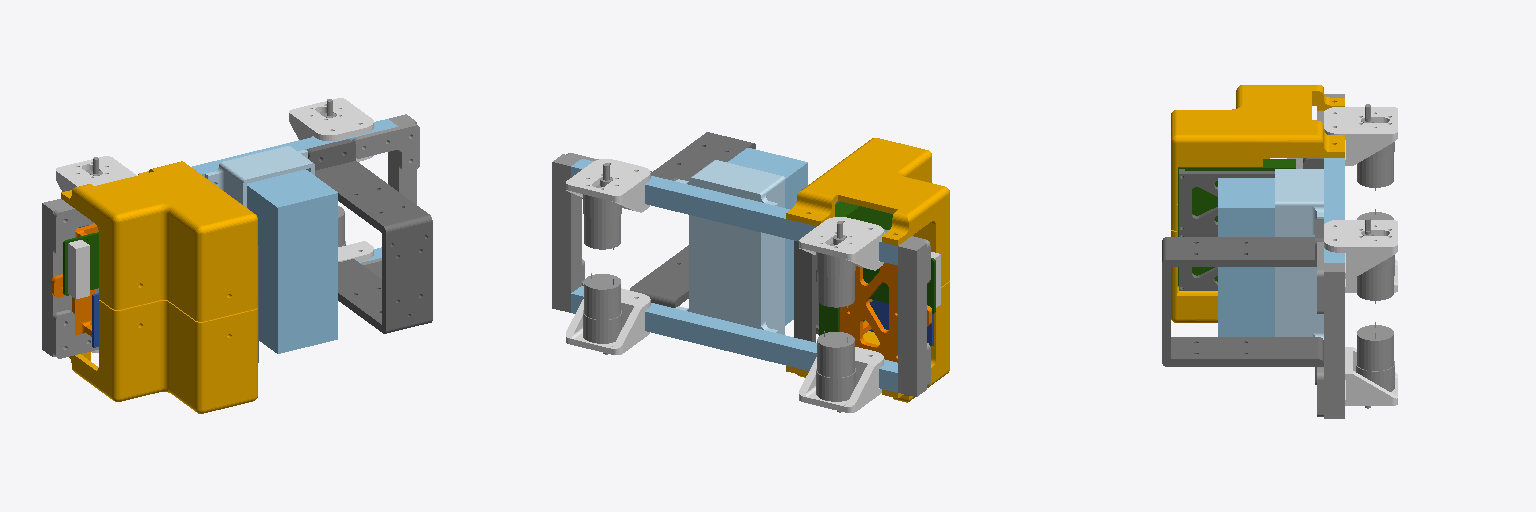
File: mecanum_bot_chassis.obj
3 views of the same model, side by side, from view 1: azimuth 30°, elevation 25°; view 2: azimuth 150°, elevation 25°; view 3: azimuth 270°, elevation 25° (orthographic).
Visible parts, largest first — view 1: mesh102, mesh131, mesh11, mesh430, mesh137, mesh415, mesh122, mesh26, mesh101, mesh385, mesh126, mesh419 (+22 smaller); view 2: mesh89, mesh216, mesh131, mesh334, mesh213, mesh385, mesh336, mesh220, mesh208, mesh210, mesh70, mesh26 (+18 smaller); view 3: mesh99, mesh131, mesh82, mesh385, mesh26, mesh33, mesh334, mesh45, mesh154, mesh207, mesh520, mesh370 (+10 smaller).
Boxes of the visible parts, box(x1,y1,x2,y2) form: mesh102: box(278, 193, 337, 353); mesh131: box(81, 162, 250, 225); mesh11: box(386, 222, 432, 330); mesh430: box(204, 310, 254, 409); mesh137: box(204, 222, 254, 320); mesh415: box(121, 301, 159, 397); mesh122: box(121, 213, 159, 309); mesh26: box(315, 161, 429, 225); mesh101: box(247, 186, 277, 353); mesh385: box(56, 98, 373, 186); mesh126: box(169, 214, 194, 319); mesh419: box(169, 303, 194, 407); mesh89: box(687, 178, 763, 329); mesh216: box(571, 167, 897, 392); mesh131: box(806, 138, 942, 213); mesh334: box(584, 215, 854, 377); mesh213: box(571, 159, 897, 372); mesh385: box(566, 159, 883, 253); mesh336: box(583, 194, 855, 401); mesh220: box(840, 263, 928, 362); mesh208: box(898, 246, 916, 396); mesh210: box(552, 162, 570, 312); mesh70: box(761, 180, 784, 334); mesh26: box(653, 132, 752, 180); mesh99: box(1218, 208, 1274, 336); mesh131: box(1177, 86, 1316, 134); mesh82: box(1275, 206, 1323, 336); mesh385: box(1324, 107, 1397, 246); mesh26: box(1167, 237, 1314, 259); mesh33: box(1162, 245, 1323, 381); mesh334: box(1357, 153, 1393, 370); mesh45: box(1171, 337, 1317, 358); mesh154: box(1177, 143, 1344, 166); mesh207: box(1324, 272, 1344, 418); mesh520: box(1179, 159, 1323, 290); mesh370: box(1340, 134, 1391, 278).
Bounding box in the file's own units: 0.392 × 0.194 × 0.219.